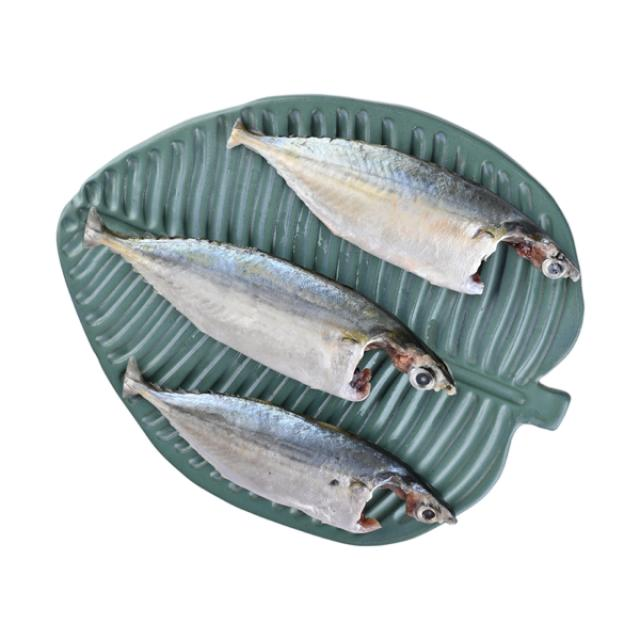Mackerel: (84, 208, 455, 401), (228, 119, 580, 294), (124, 359, 456, 534)
